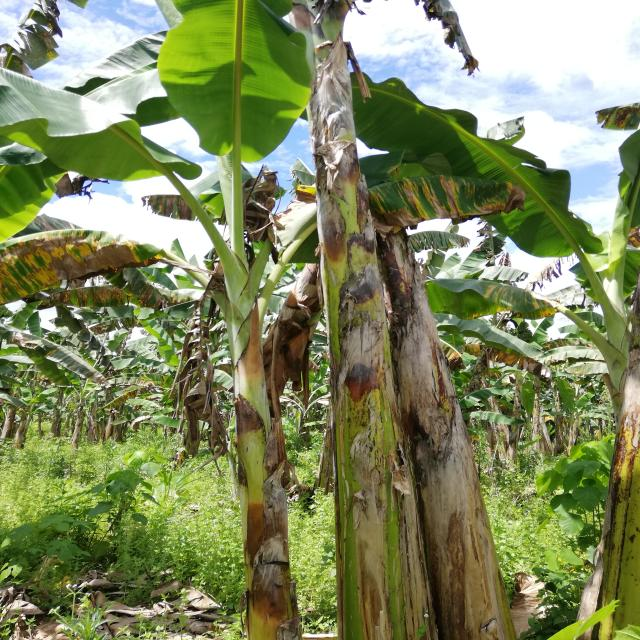Banana-plant: (296, 9, 430, 640), (372, 219, 522, 632), (192, 237, 304, 637), (593, 389, 640, 640)
